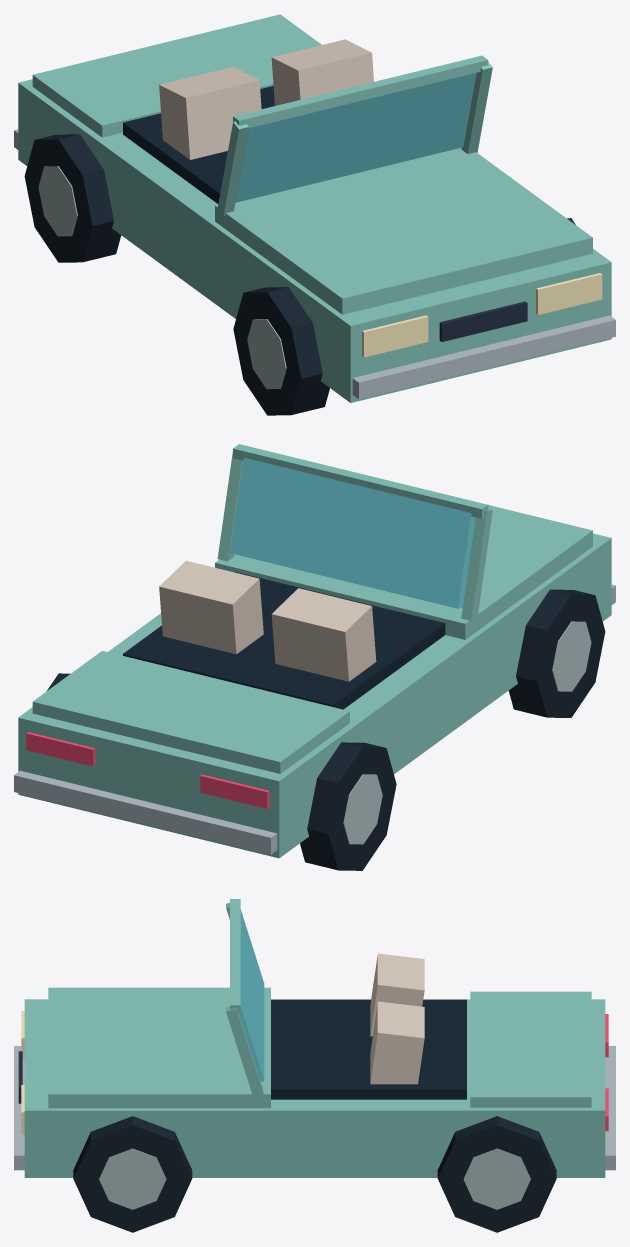
File: vehicle-cabriolet.obj
3 renders of one model, top to bottom at view 1: azimuth 30°, elevation 25°; view 2: azimuth 150°, elevation 25°; view 3: azimuth 270°, elevation 25°, orthographic. The views are drawn at different scales.
Visible parts, largest first — view 1: vehicle-cabriolet; view 2: vehicle-cabriolet; view 3: vehicle-cabriolet.
Part boxes in pixels (x1,y1,x2,y2): vehicle-cabriolet: [14, 14, 615, 415]; vehicle-cabriolet: [14, 444, 615, 870]; vehicle-cabriolet: [14, 899, 615, 1232].
Size of the model in its own units: 2.28 by 1.76 by 4.46.
